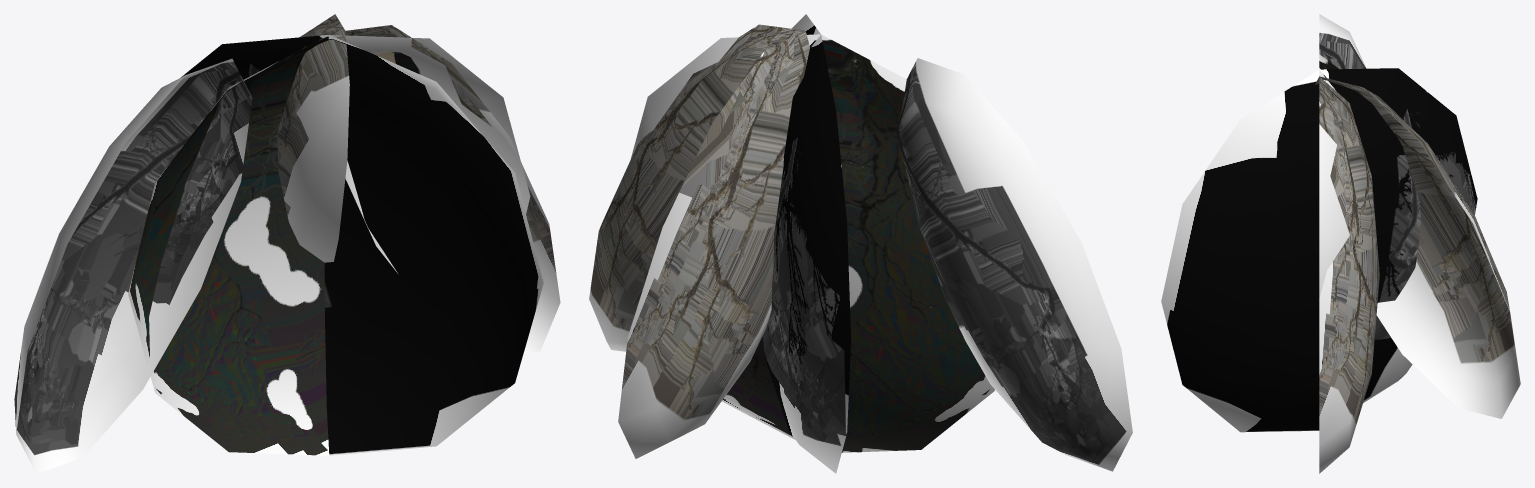
3 views of the same model, side by side, from view 1: azimuth 30°, elevation 25°; view 2: azimuth 150°, elevation 25°; view 3: azimuth 270°, elevation 25° (orthographic). The views are drawn at different scales.
Parts seen in each view (by area): view 1: root5; view 2: root5; view 3: root5.
Boxes of the visible parts, x1=… form: root5: x1=14, y1=14, x2=560, y2=473; root5: x1=589, y1=14, x2=1132, y2=473; root5: x1=1161, y1=14, x2=1520, y2=473.
Size of the model in its own units: 124 by 91.55 by 82.59.
